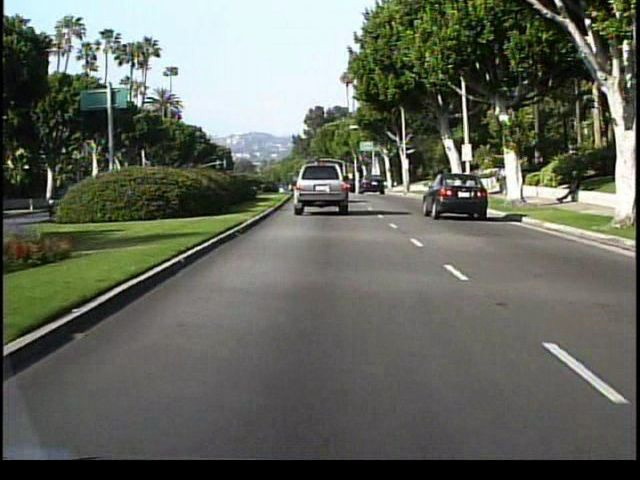person: (560, 166, 587, 209)
